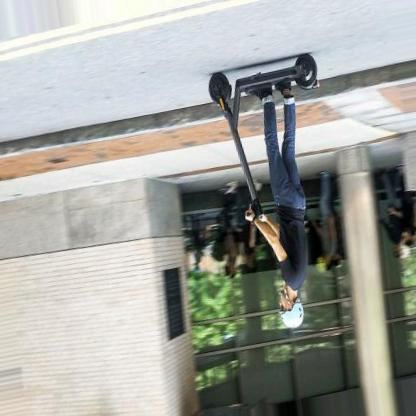scooter: (209, 54, 320, 221)
with helmet: (278, 288, 305, 332)
